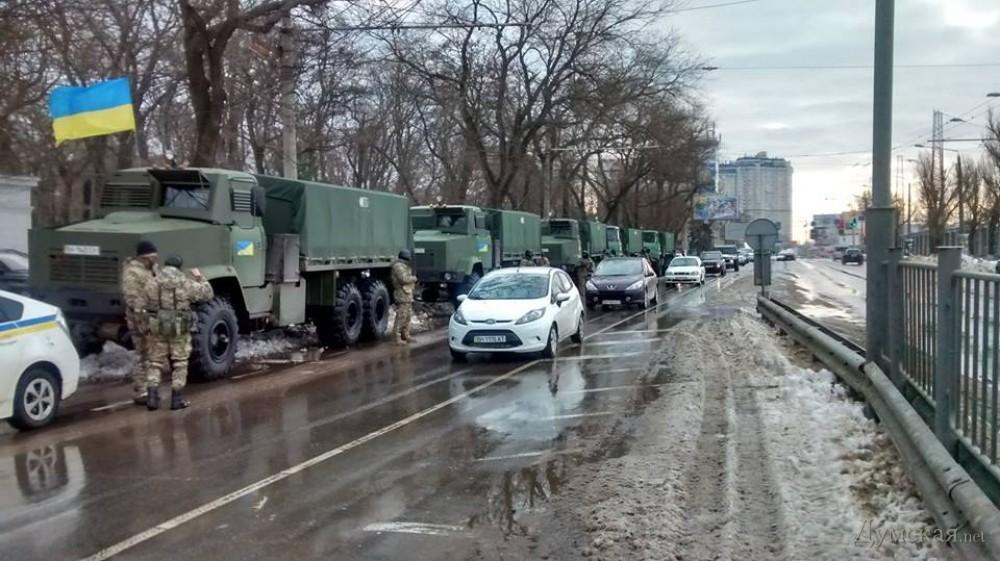car: (451, 266, 590, 366), (2, 306, 77, 422), (590, 260, 658, 317), (659, 258, 706, 286), (834, 247, 863, 264), (704, 252, 721, 280)
person: (120, 245, 162, 416), (154, 258, 202, 403), (386, 248, 418, 351)
truck: (53, 168, 414, 360), (410, 202, 544, 280), (546, 212, 606, 263)
